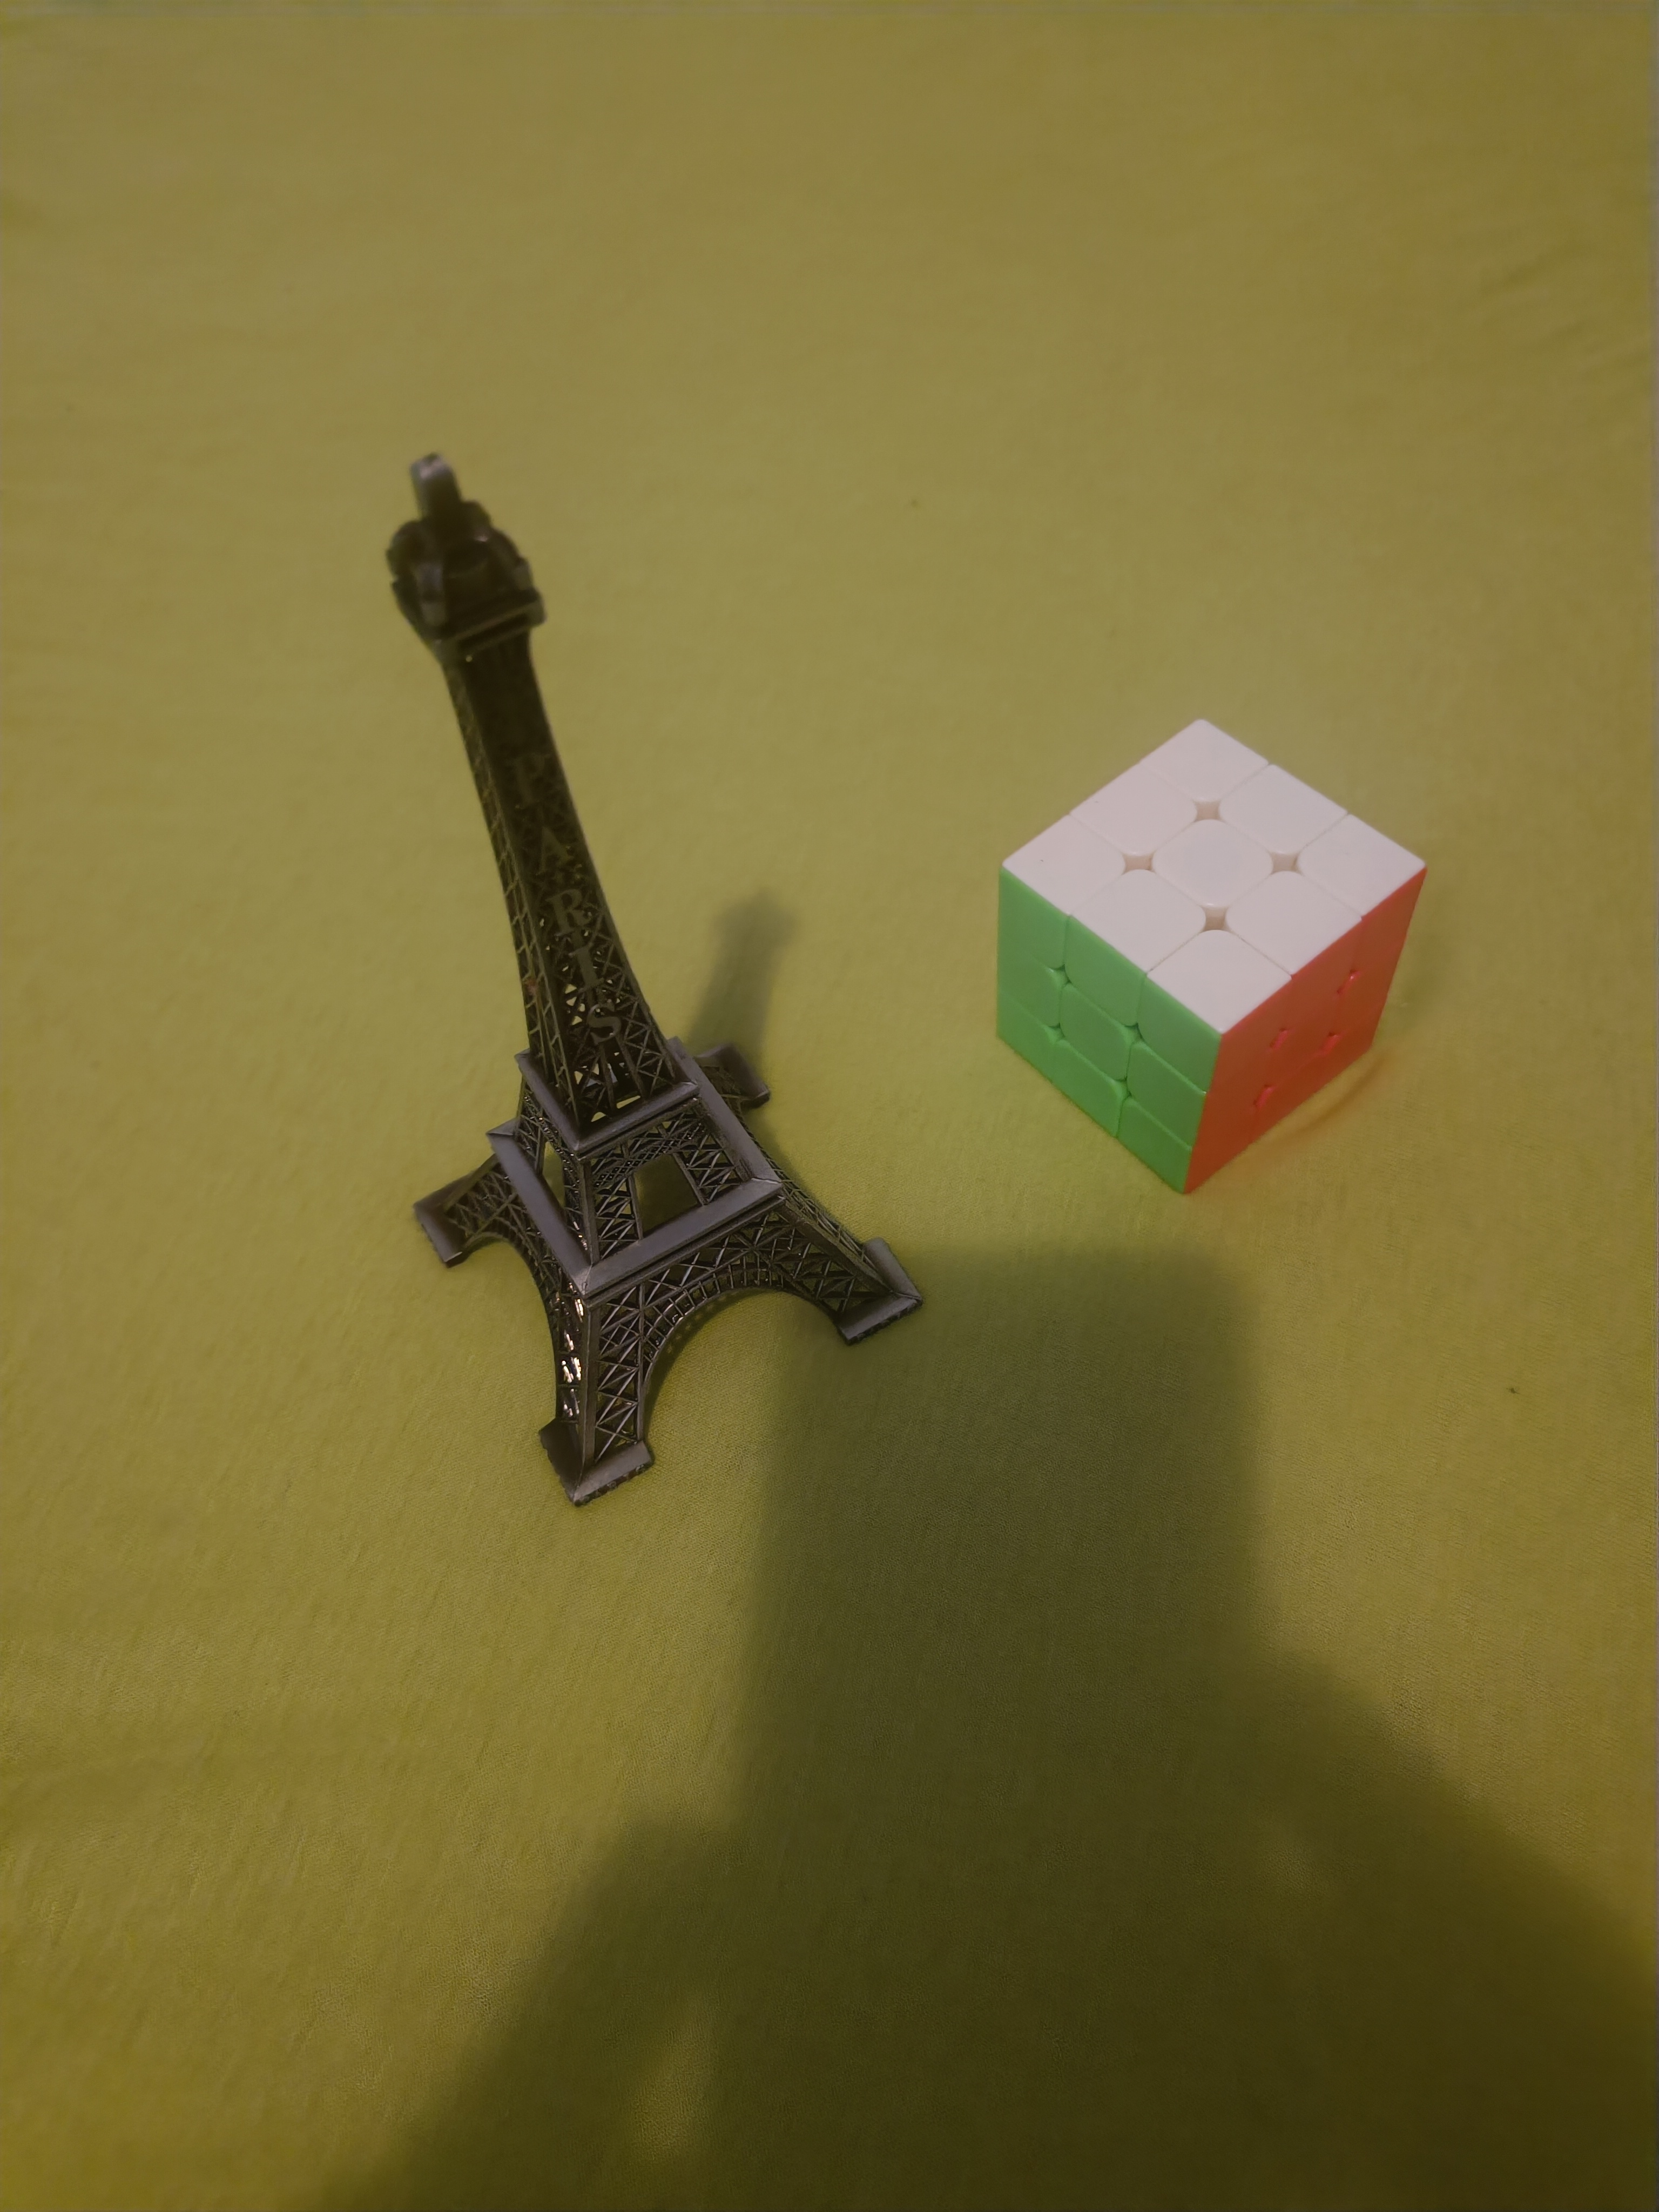Eiffel Tower: (385, 432, 932, 1520)
Rubiks Cube: (963, 687, 1431, 1213)
